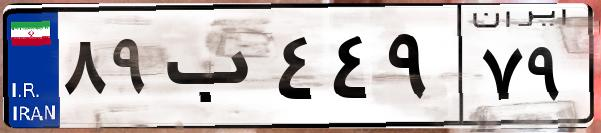4: (270, 28, 330, 110), (330, 28, 385, 110)
7: (475, 38, 525, 113)
8: (57, 26, 110, 100)
9: (385, 28, 445, 110), (525, 38, 570, 115), (110, 28, 158, 98)
ب: (158, 20, 270, 120)
